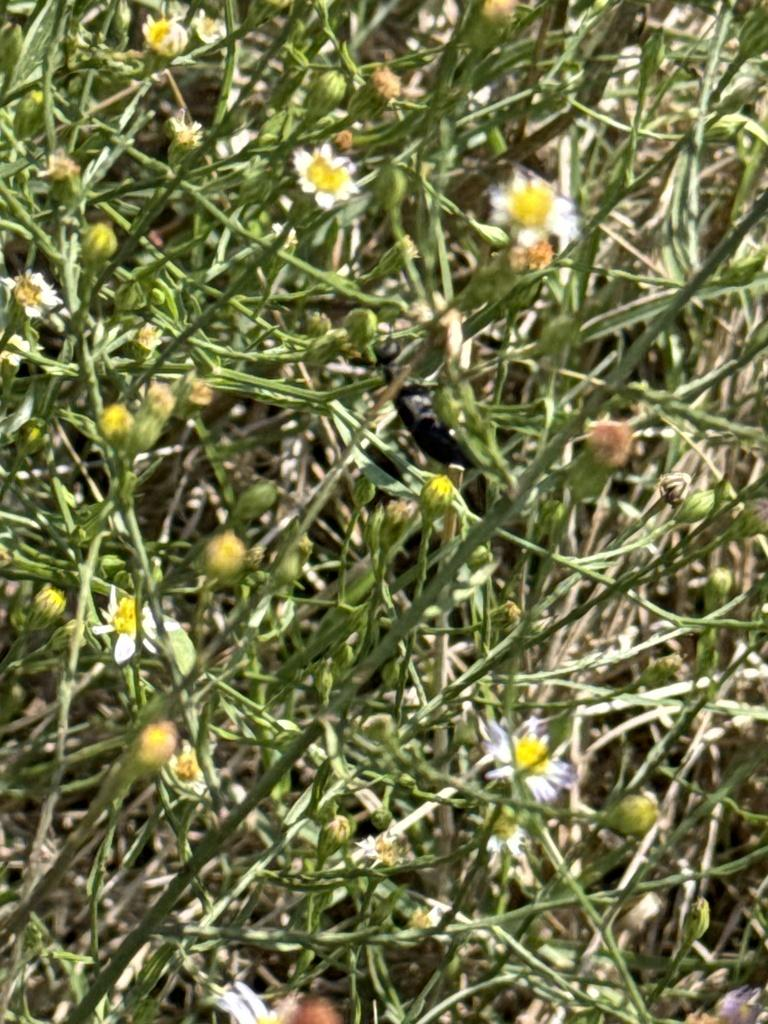blister_beetle: (381, 359, 493, 488)
